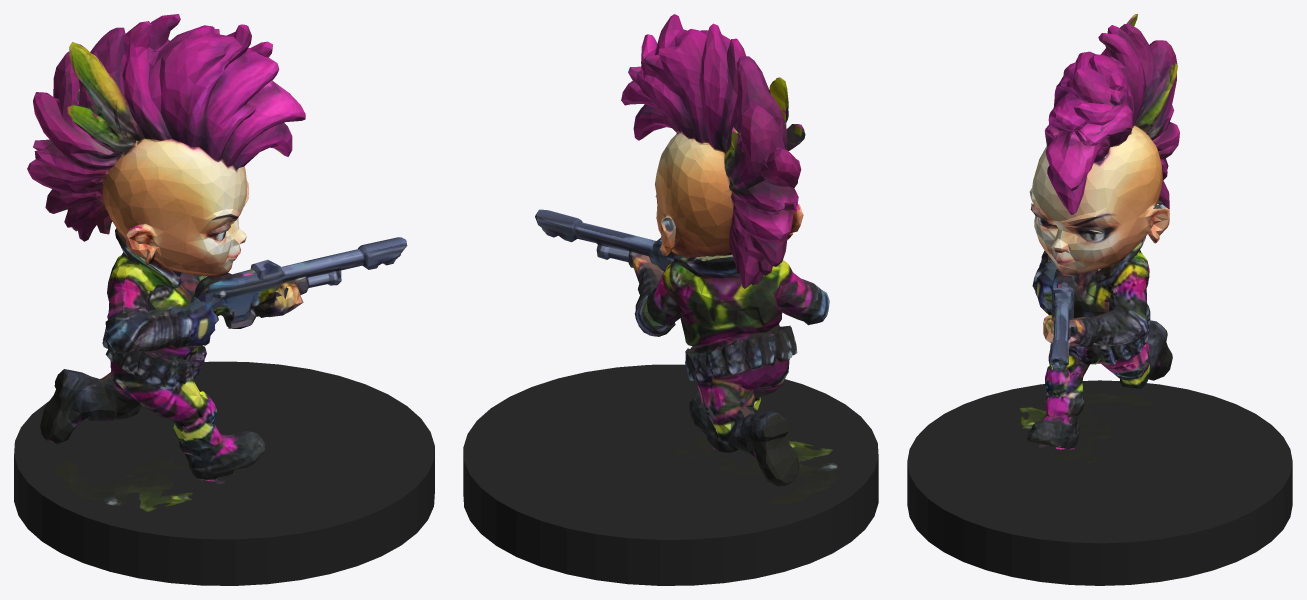
File: escher-sister-lasgun.glb
3 renders of one model, left to right at view 1: azimuth 30°, elevation 25°; view 2: azimuth 150°, elevation 25°; view 3: azimuth 270°, elevation 25°, orthographic. The views are drawn at different scales.
Parts seen in each view (by area): view 1: figure, base; view 2: base, figure; view 3: base, figure.
Part boxes in pixels (x1,y1,x2,y2): figure: (27, 14, 407, 511); base: (14, 361, 434, 585); base: (463, 364, 878, 585); figure: (535, 14, 838, 504); base: (907, 380, 1292, 585); figure: (1020, 14, 1179, 462).
Bounding box in the file's own units: 0.9843 × 1.27 × 0.9843.
2 materials, 1 textured.
